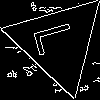L: (33, 18, 85, 57)
